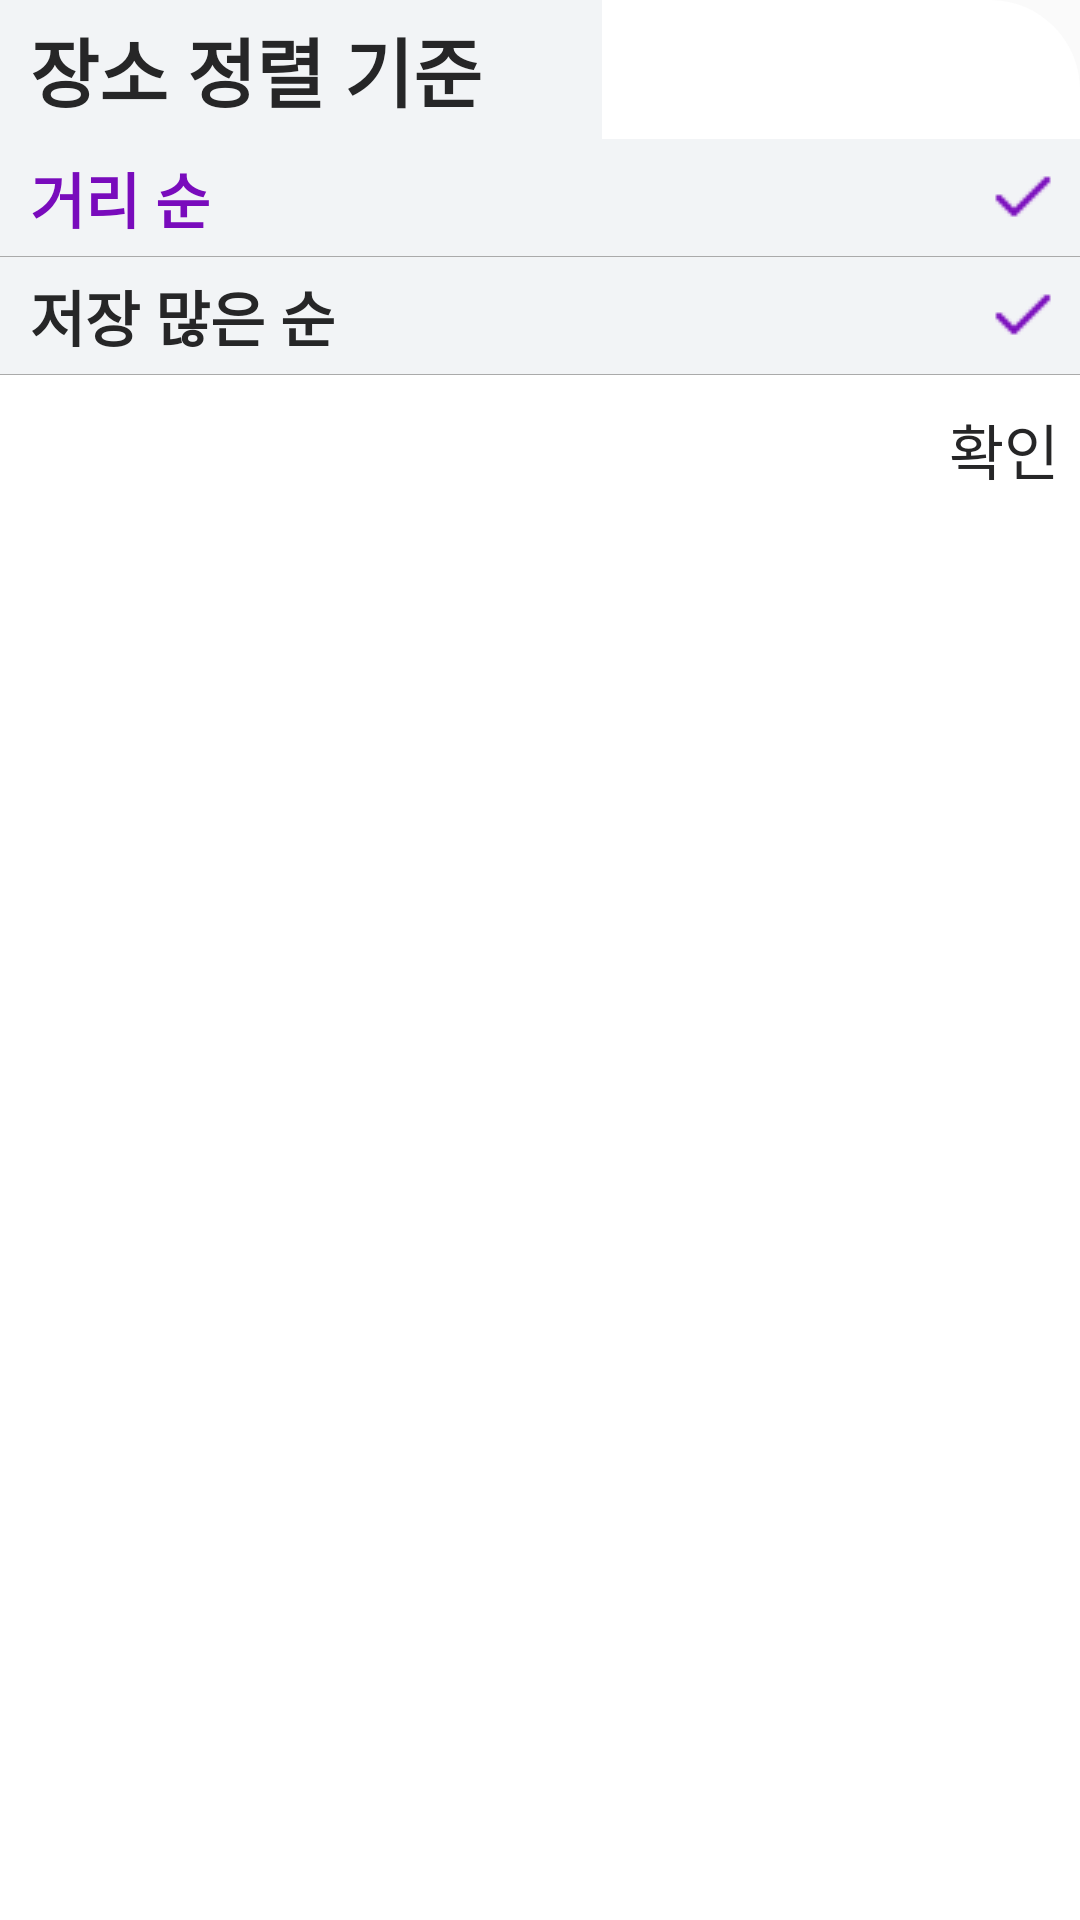

Icons on this 1080px x 1920px Android screen, each with its box as bbox=(x1, y1, x2, y2):
화장실 장소 정렬 기준 선택 이미지: bbox=(995, 176, 1051, 217), bbox=(995, 294, 1051, 335)
